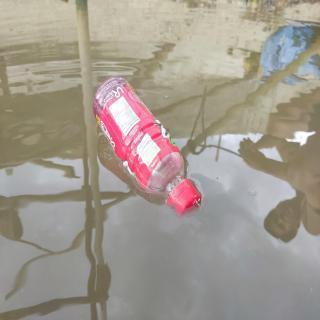bottle: (91, 73, 204, 221)
